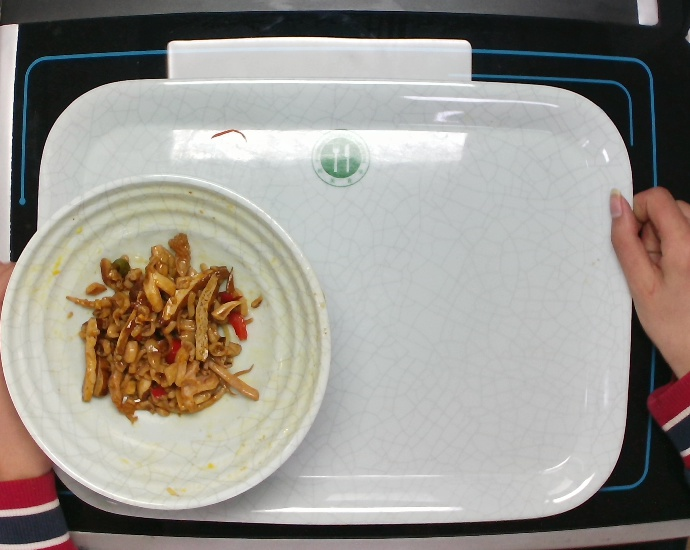JYsf-Da_Tang_Wan: (1, 169, 336, 517)
